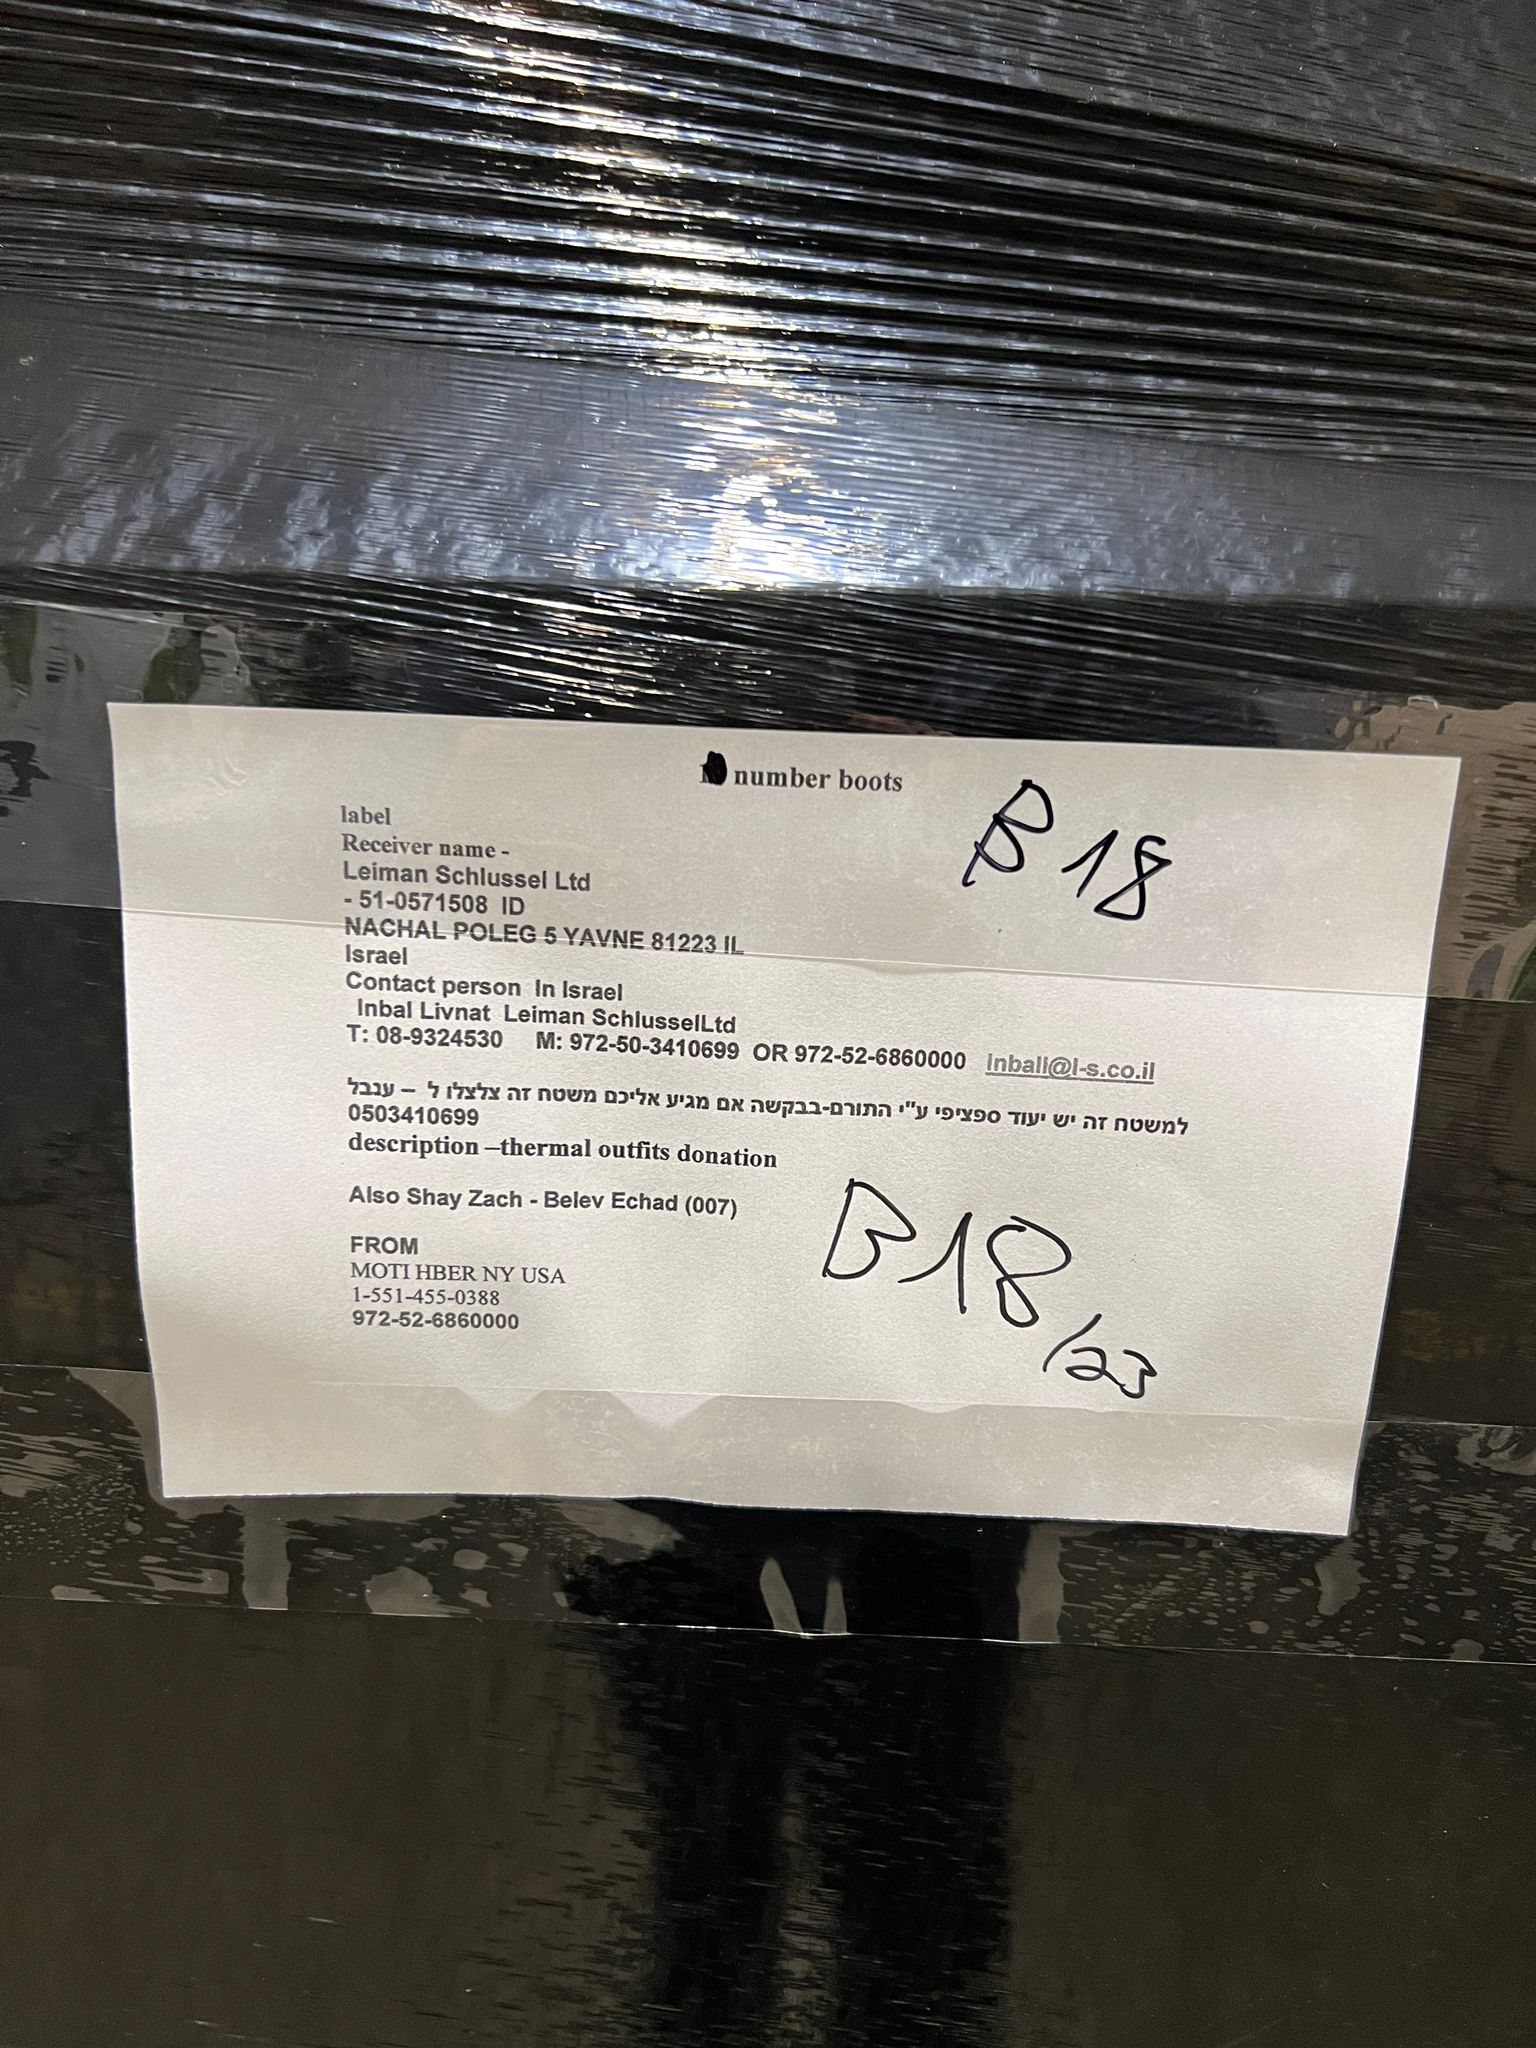paper: (77, 632, 1407, 1579)
